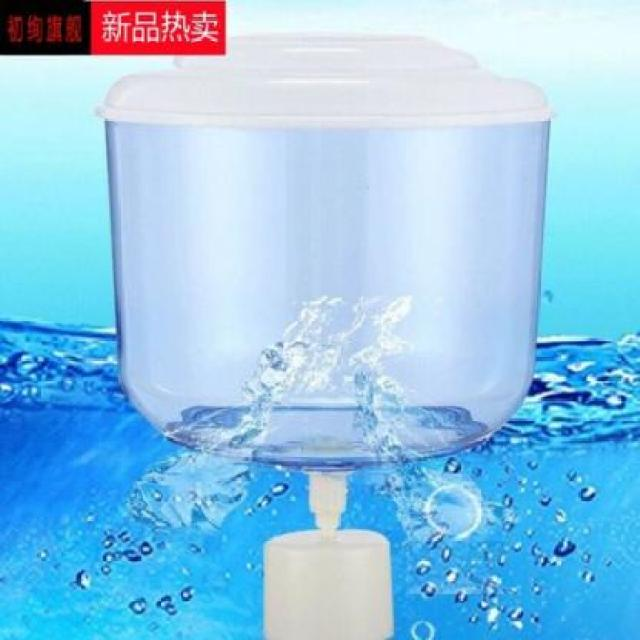coolerbottle: (103, 63, 559, 479)
